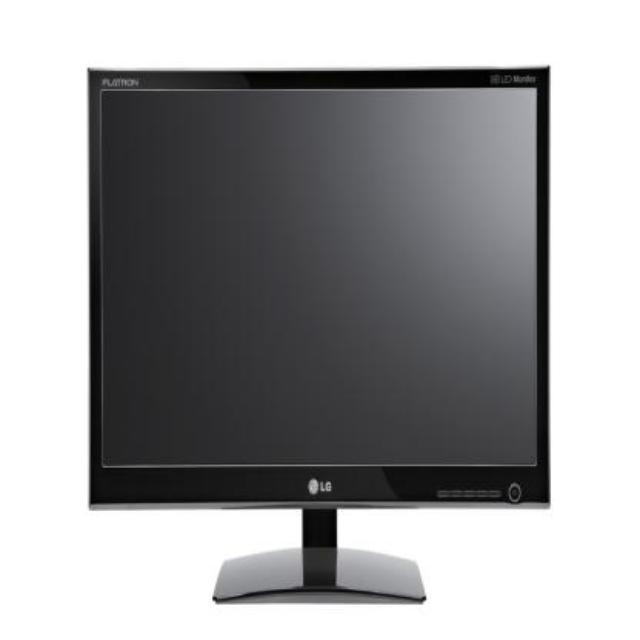Television: (58, 83, 547, 512)
